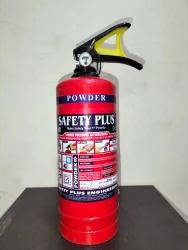floor-kept: (40, 15, 152, 246)
